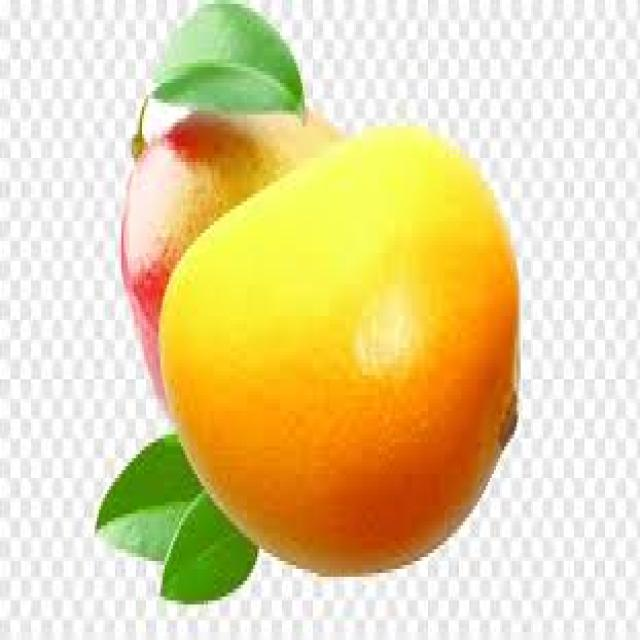mango: (158, 126, 519, 561)
